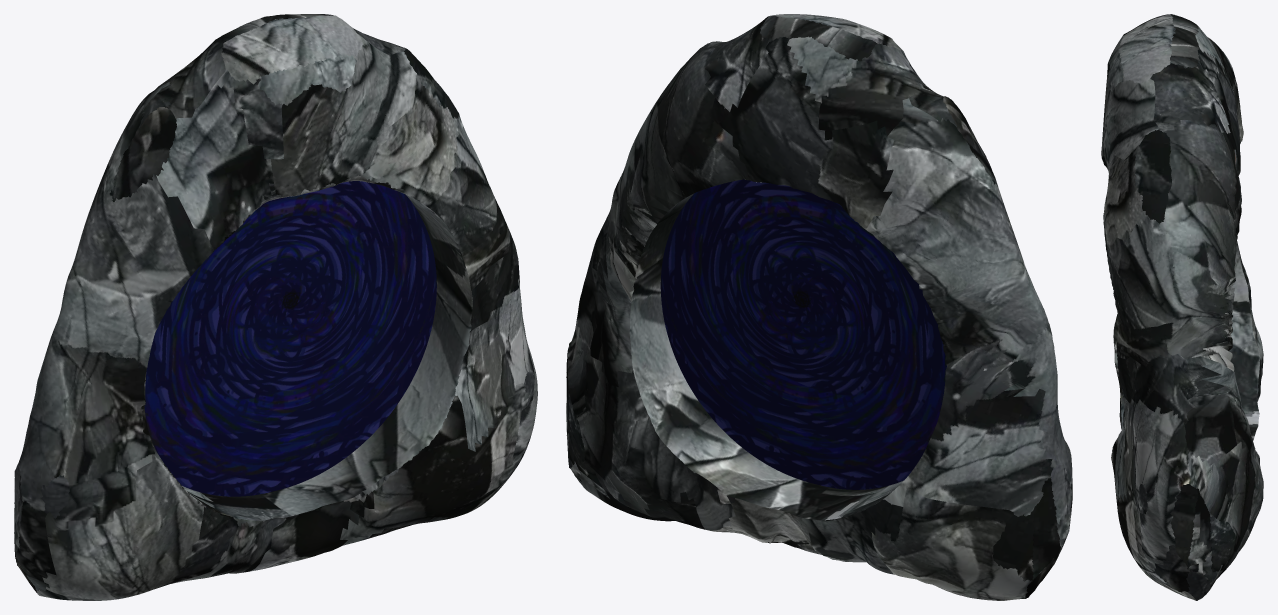
File: portal-v2-draco.glb
The picture shows the model from 3 angles, left to right: view 1: azimuth 30°, elevation 25°; view 2: azimuth 150°, elevation 25°; view 3: azimuth 270°, elevation 25°; orthographic projection. The views are drawn at different scales.
Visible parts, largest first — view 1: Portal, Portal Surface; view 2: Portal, Portal Surface; view 3: Portal.
Part boxes in pixels (x1=…): Portal: x1=14, y1=14, x2=537, y2=600; Portal Surface: x1=144, y1=181, x2=436, y2=496; Portal: x1=566, y1=14, x2=1072, y2=600; Portal Surface: x1=660, y1=179, x2=946, y2=489; Portal: x1=1101, y1=14, x2=1263, y2=600.
Size of the model in its own units: 10.38 by 10.48 by 3.18.
2 materials, 2 textured.
